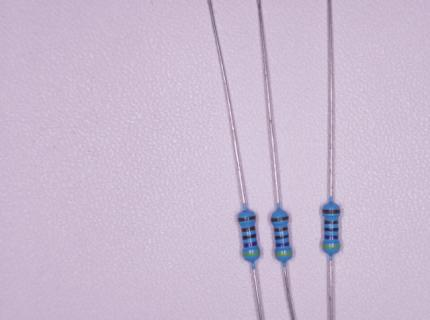Black band: (243, 233, 255, 240), (275, 234, 289, 240), (324, 227, 338, 231)
Brown band: (238, 216, 256, 222), (272, 216, 288, 222), (242, 226, 255, 232), (274, 227, 288, 232), (323, 210, 340, 214), (324, 221, 338, 224)
Violet band: (244, 241, 257, 247), (324, 235, 338, 240), (275, 242, 289, 247)
Yellow band: (243, 250, 260, 257), (275, 251, 292, 256), (323, 245, 340, 249)
